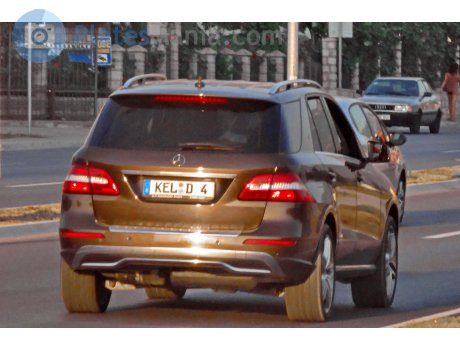License Plates: (149, 176, 211, 196)
